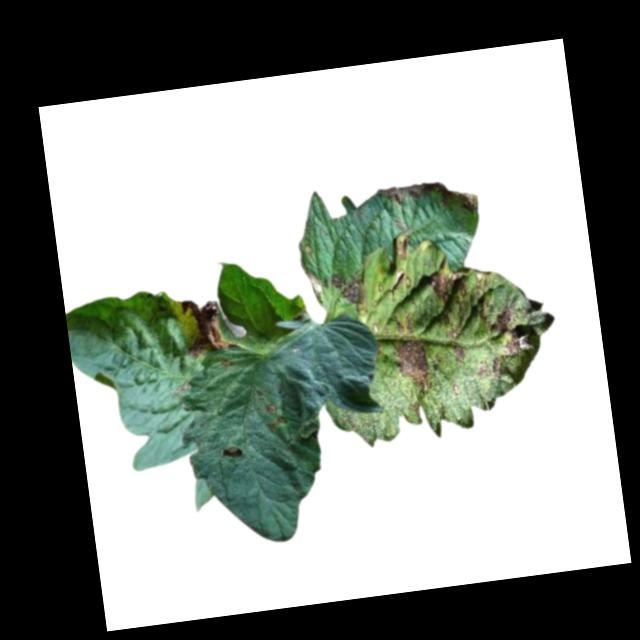Early_blight: (376, 175, 479, 223), (385, 307, 430, 396), (428, 263, 494, 312), (176, 296, 227, 359), (473, 332, 535, 382), (331, 272, 372, 321), (478, 294, 522, 338), (259, 400, 287, 435), (450, 341, 467, 365), (220, 445, 242, 460)
